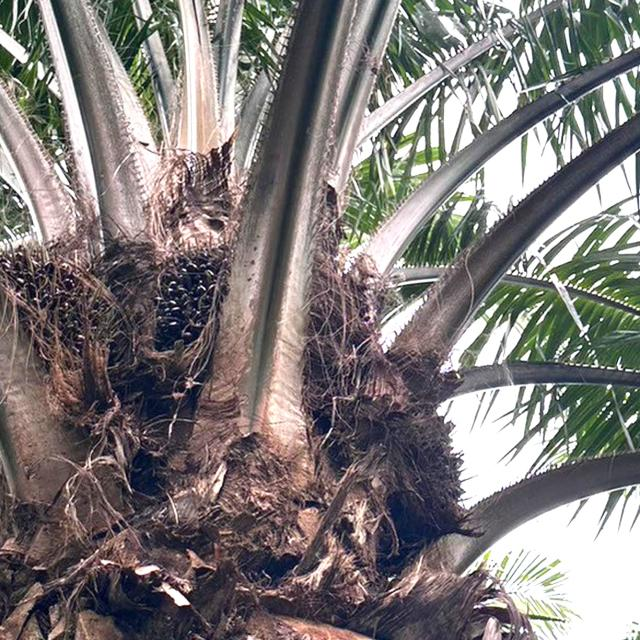almost: (1, 234, 134, 422)
unripe: (144, 229, 257, 394)
